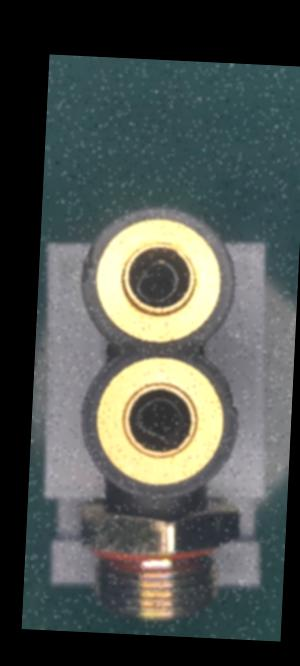bump: (222, 380, 240, 425), (79, 242, 98, 283)
off-centered: (125, 251, 189, 309), (130, 391, 188, 447)
